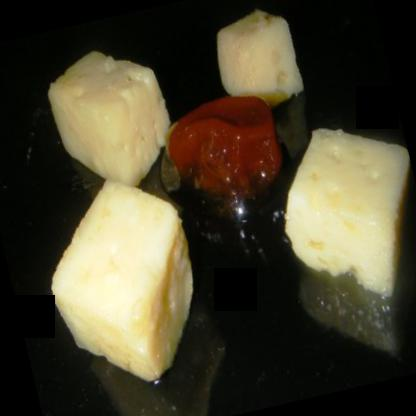cheese: (34, 168, 214, 398), (267, 117, 415, 298), (41, 40, 178, 199), (208, 4, 308, 116)
